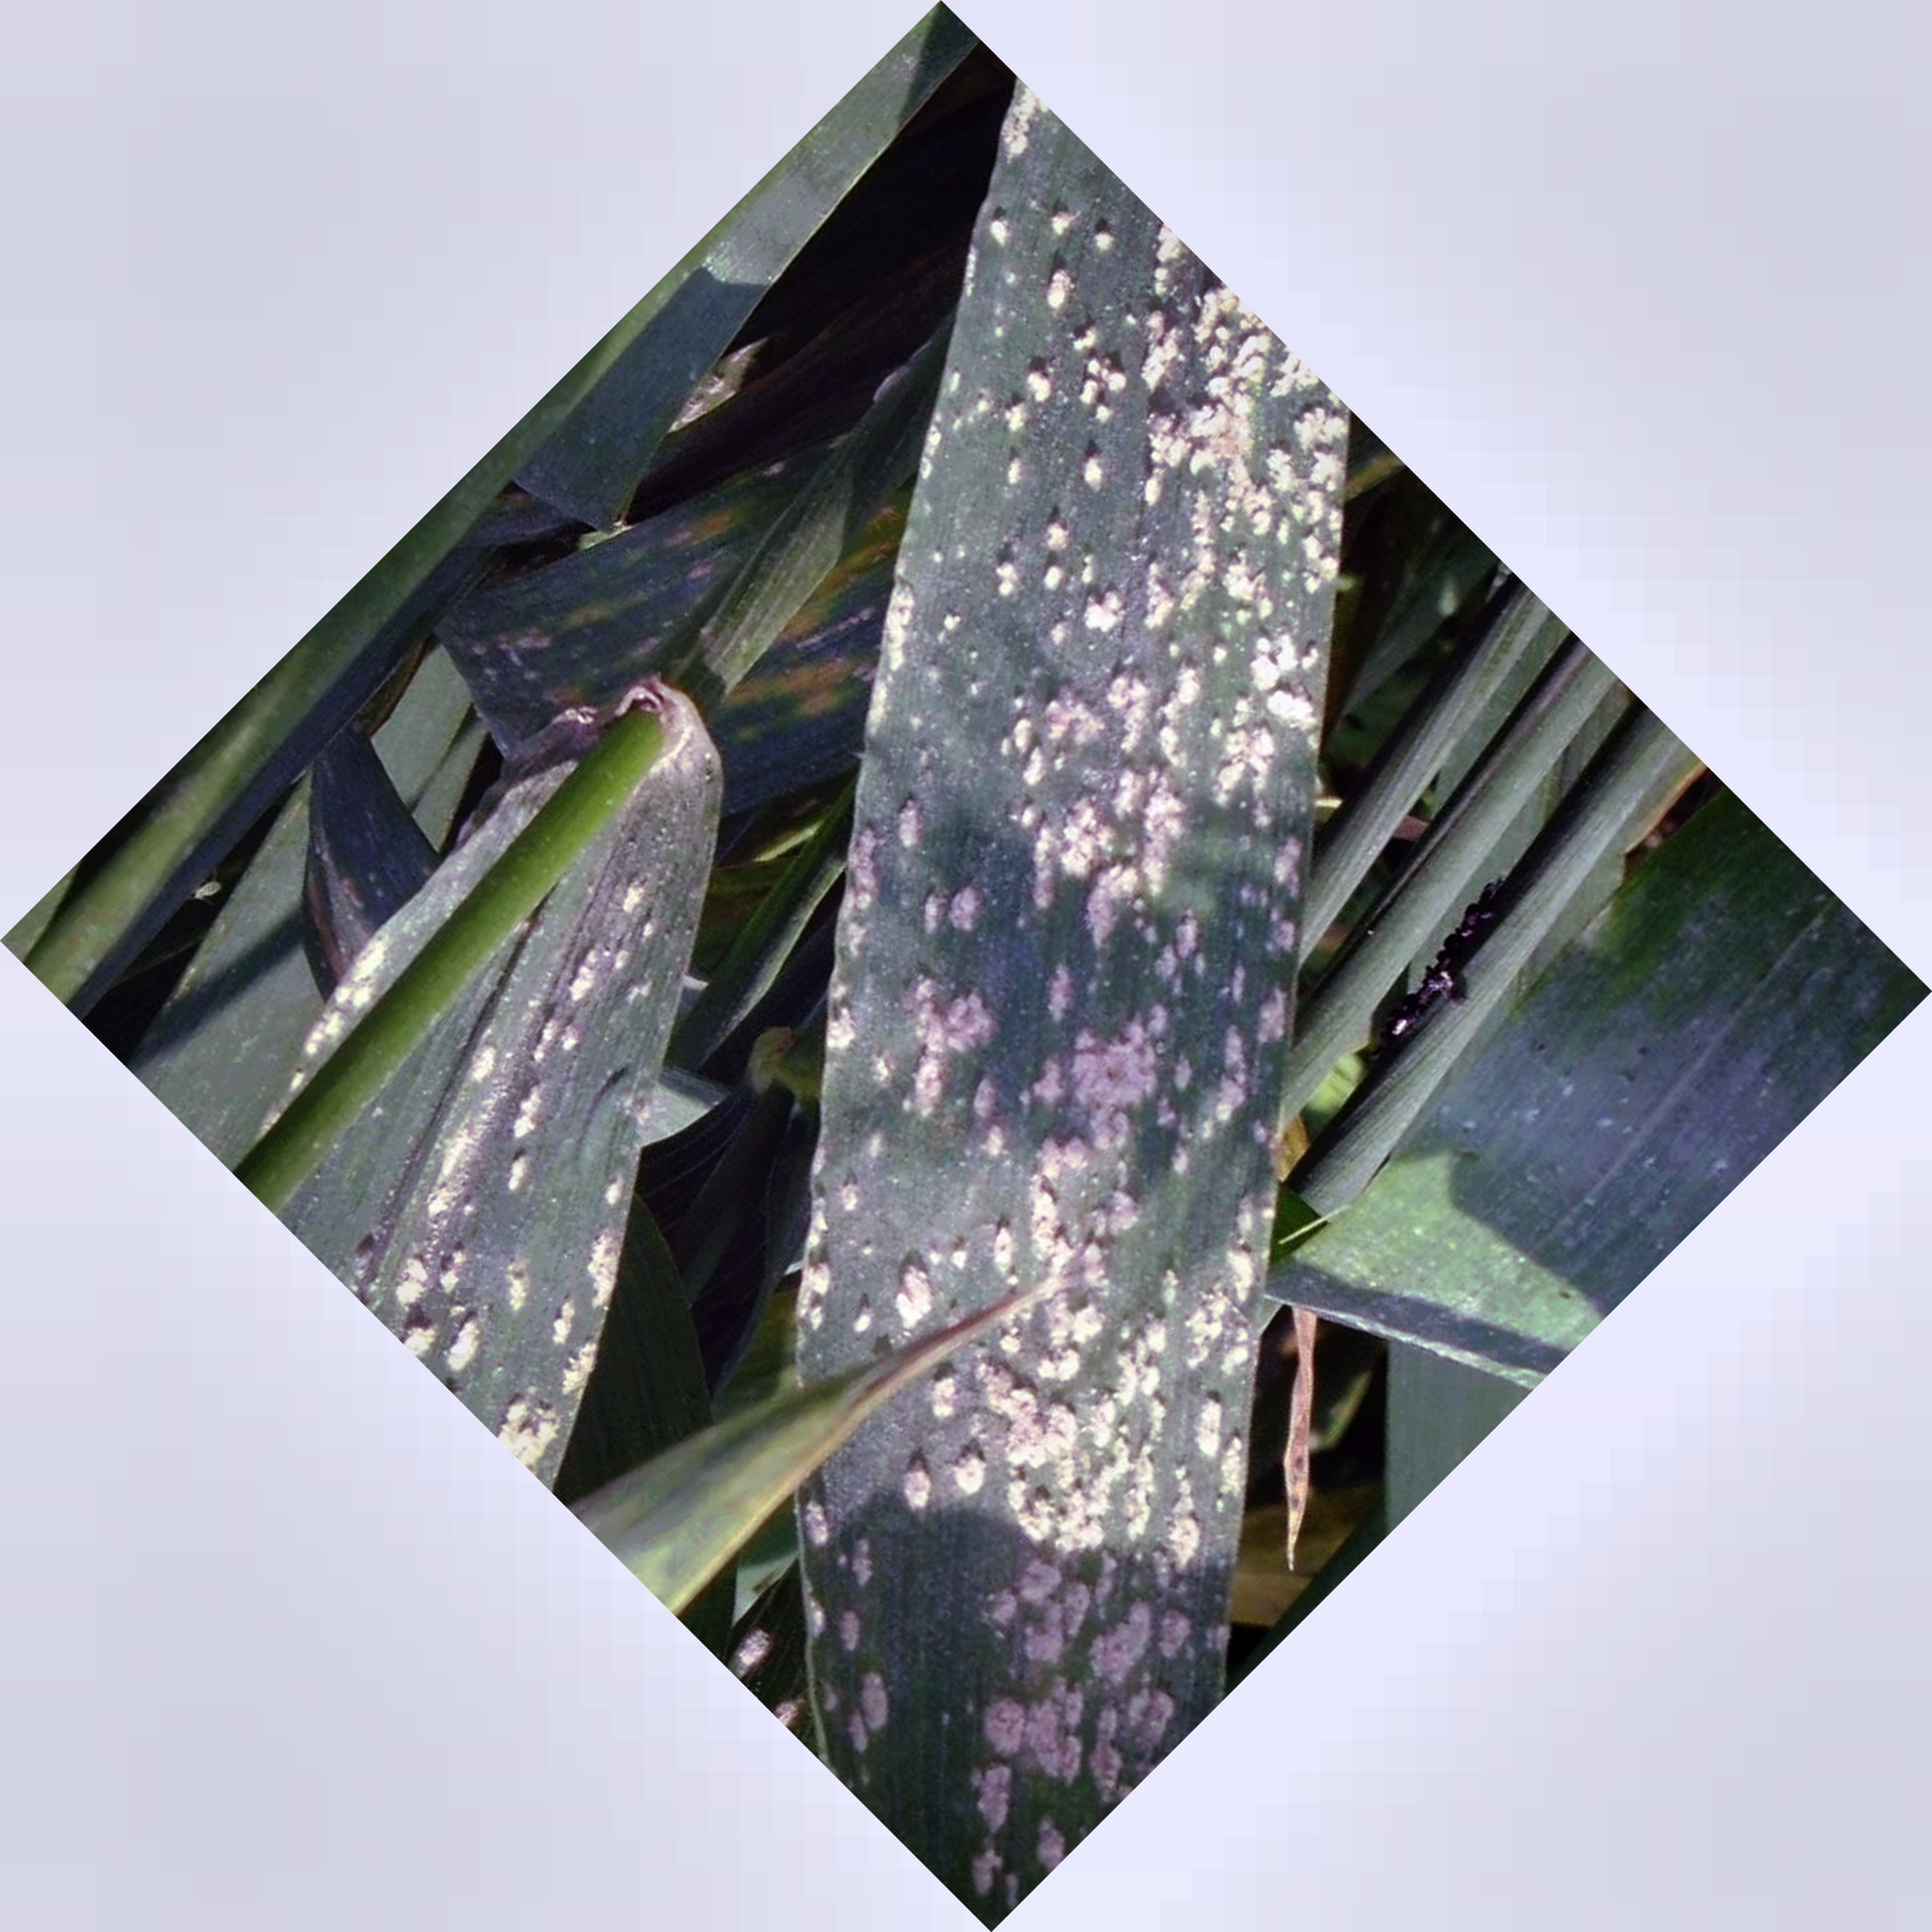Powdery Mildew: (833, 249, 1373, 1661)
